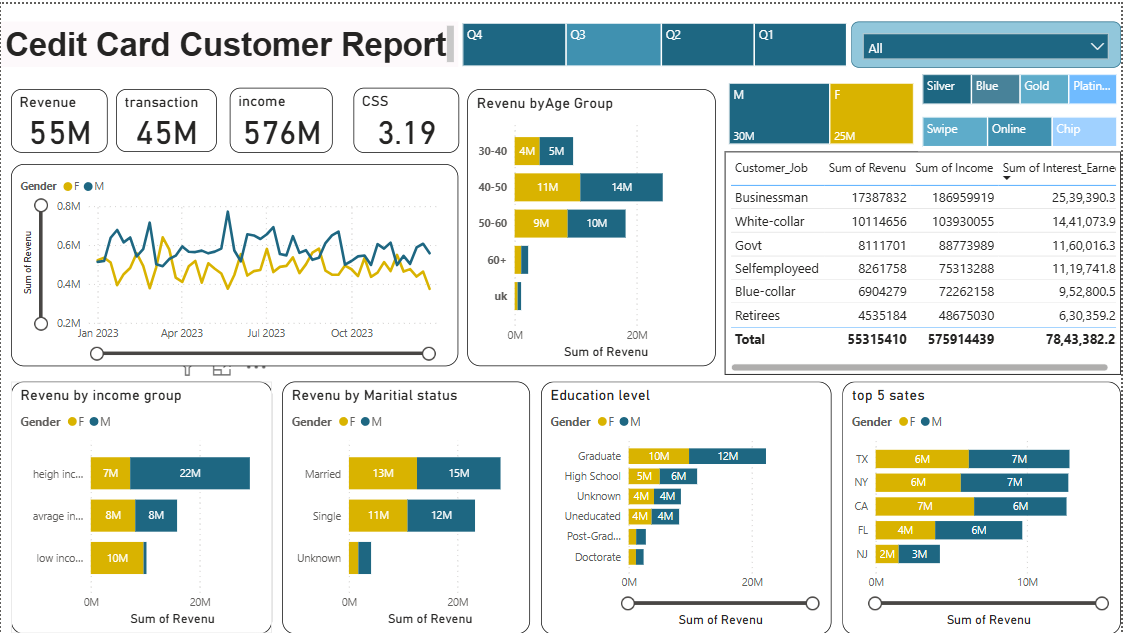

The dashboard page shown, as its layout file describes it:
{"tool":"powerbi","page":{"name":"3","canvas":[1280,720],"ordinal":1},"visuals":[{"type":"textbox","box":[0,20.6,522.8,52.1],"z":0},{"type":"barChart","title":"Revenu by income group","fields":{"Y":["Sum(credit_card.Revenu)"],"Category":["customer.INCOMEGROUP"],"Series":["customer.Gender"]},"box":[11.4,431.4,298.6,288.6],"z":1000},{"type":"tableEx","fields":{"Values":["customer.Customer_Job","Sum(credit_card.Revenu)","Sum(customer.Income)","Sum(credit_card.Interest_Earned)"]},"box":[827.4,168.8,452.8,255.2],"z":2000},{"type":"slicer","fields":{"Values":["credit_card.Week_Start_Date"]},"box":[971.4,20,308.6,52.9],"z":3000},{"type":"treemap","fields":{"Group":["credit_card.Qtr"],"Values":["Avg(credit_card.Client_Num)"]},"box":[522.8,16.5,448.7,59],"z":4000},{"type":"treemap","fields":{"Group":["credit_card.Card_Category"],"Values":["Avg(credit_card.Client_Num)"]},"box":[1048.4,75.5,231.9,43.9],"z":5000},{"type":"card","title":"Revenue","fields":{"Values":["Sum(credit_card.Revenu)"]},"box":[11.4,97.1,110,72.9],"z":6000},{"type":"card","title":"transaction","fields":{"Values":["Sum(credit_card.Total_Trans_Amt)"]},"box":[132.1,97.8,114.9,72.1],"z":7000},{"type":"card","title":"income","fields":{"Values":["Sum(customer.Income)"]},"box":[261.7,95.4,117.4,74.6],"z":8000},{"type":"card","title":"CSS","fields":{"Values":["Avg(customer.Cust_Satisfaction_Score)"]},"box":[402.3,95.4,121.1,74.6],"z":9000},{"type":"lineChart","title":"Revenu by Year, Quarter, Month, Day and Gender","fields":{"Series":["customer.Gender"],"Y":["Sum(credit_card.Revenu)"],"Category":["credit_card.Week_Start_Date.Variation.Date Hierarchy.Year","credit_card.Week_Start_Date.Variation.Date Hierarchy.Quarter","credit_card.Week_Start_Date.Variation.Date Hierarchy.Month","credit_card.Week_Start_Date.Variation.Date Hierarchy.Day"]},"box":[11.4,182.9,511.4,231.4],"z":10000},{"type":"treemap","fields":{"Group":["customer.Gender"],"Values":["Sum(credit_card.Revenu)"]},"box":[827.4,85.1,220.9,79.6],"z":11000},{"type":"barChart","title":"Revenu byAge Group","fields":{"Y":["Sum(credit_card.Revenu)"],"Category":["customer.Age_group"],"Series":["customer.Gender"]},"box":[532.4,97.4,284,317],"z":12000},{"type":"barChart","title":"Revenu by Maritial status","fields":{"Y":["Sum(credit_card.Revenu)"],"Category":["customer.Marital_Status"],"Series":["customer.Gender"]},"box":[321.4,431.4,282.9,288.6],"z":13000},{"type":"barChart","title":"Education level","fields":{"Y":["Sum(credit_card.Revenu)"],"Category":["customer.Education_Level"],"Series":["customer.Gender"]},"box":[617.5,430.9,332.1,289.5],"z":14000},{"type":"barChart","title":"top 5 sates","fields":{"Y":["Sum(credit_card.Revenu)"],"Category":["customer.state_cd"],"Series":["customer.Gender"]},"box":[961.9,430.9,318.4,289.5],"z":15000},{"type":"treemap","fields":{"Values":["Avg(credit_card.Client_Num)"],"Group":["credit_card.Use Chip"]},"box":[1048.4,124.9,231.9,43.9],"z":16000}]}

Visuals, with their boxes in screenshot pixels (x1, y1, x2, y2), scaled from the page's 1280x720 canvas onto the 1123x633 screenshot:
textbox: (0,18,459,64)
"Revenu by income group" barChart: (10,379,272,632)
tableEx - customer.Customer_Job x Sum(credit_card.Revenu): (726,148,1122,373)
slicer - credit_card.Week_Start_Date: (852,18,1122,64)
treemap - credit_card.Qtr x Avg(credit_card.Client_Num): (459,15,852,66)
treemap - credit_card.Card_Category x Avg(credit_card.Client_Num): (920,66,1122,105)
"Revenue" card: (10,85,107,149)
"transaction" card: (116,86,217,149)
"income" card: (230,84,333,149)
"CSS" card: (353,84,459,149)
"Revenu by Year, Quarter, Month, Day and Gender" lineChart: (10,161,459,364)
treemap - customer.Gender x Sum(credit_card.Revenu): (726,75,920,145)
"Revenu byAge Group" barChart: (467,86,716,364)
"Revenu by Maritial status" barChart: (282,379,530,632)
"Education level" barChart: (542,379,833,632)
"top 5 sates" barChart: (844,379,1122,632)
treemap - Avg(credit_card.Client_Num) x credit_card.Use Chip: (920,110,1122,148)
